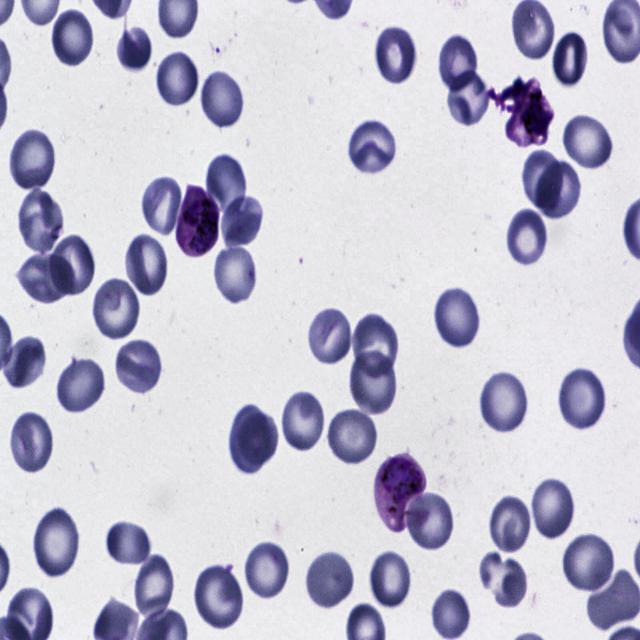difficult: (374, 452, 426, 534), (174, 180, 220, 259)
red blood cell: (31, 505, 84, 579), (90, 272, 144, 342), (560, 528, 617, 594), (191, 564, 244, 632), (432, 282, 483, 351), (478, 368, 530, 435), (8, 126, 58, 193), (304, 547, 356, 611), (325, 406, 380, 466), (558, 364, 607, 431), (349, 312, 400, 376), (349, 349, 396, 417), (14, 249, 72, 304), (403, 490, 455, 551), (16, 189, 65, 253), (8, 407, 54, 474), (229, 403, 271, 476), (202, 155, 247, 223), (48, 230, 95, 295), (55, 355, 106, 414), (212, 242, 259, 306), (534, 158, 582, 220), (530, 476, 576, 540), (50, 7, 98, 68), (123, 233, 170, 295), (347, 120, 398, 177), (132, 553, 176, 619), (445, 68, 494, 127), (562, 115, 614, 170), (478, 551, 530, 606), (201, 67, 246, 130), (244, 540, 290, 601), (280, 391, 324, 454), (522, 146, 564, 212), (486, 493, 532, 552), (113, 339, 163, 393), (308, 305, 352, 366), (434, 33, 480, 91), (154, 49, 199, 107), (504, 209, 548, 267), (2, 334, 48, 389), (142, 174, 182, 235), (374, 25, 416, 83), (219, 195, 264, 248), (103, 518, 152, 566), (369, 550, 409, 608), (552, 31, 592, 88), (237, 414, 278, 465), (432, 588, 471, 638), (115, 26, 152, 74)
trophozoite: (502, 79, 554, 149)
